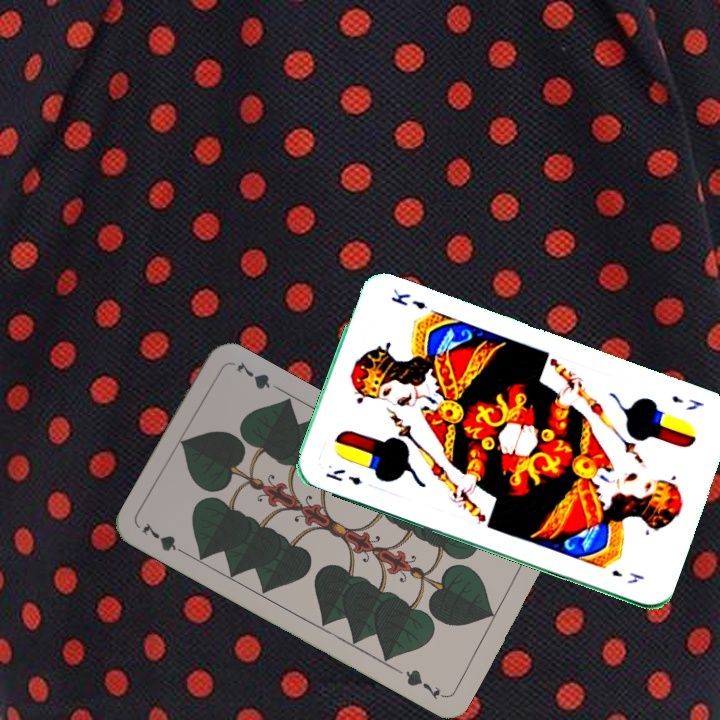EK: (321, 464, 364, 488), (667, 391, 706, 413)
G7: (137, 518, 192, 559)
